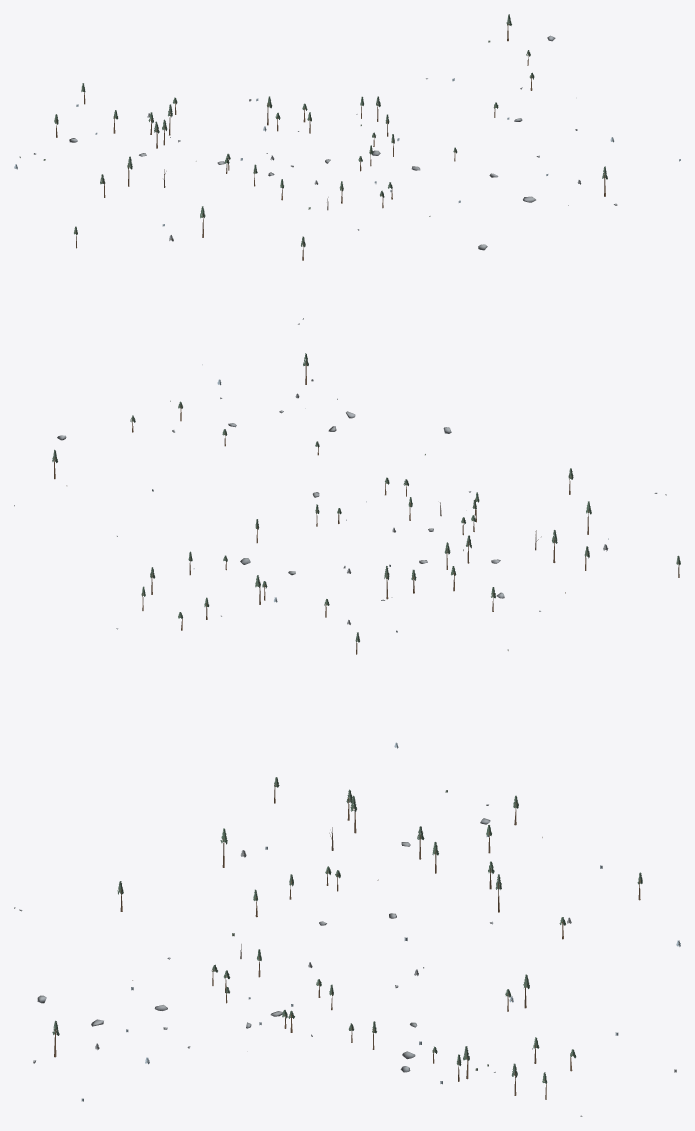
File: frost_land_scatter_c24_09_lod1.glb
3 views of the same model, one above another, from view 1: azimuth 30°, elevation 25°; view 2: azimuth 150°, elevation 25°; view 3: azimuth 270°, elevation 25° (orthographic). The views are drawn at different scales.
Parts seen in each view (by area): view 1: frost_land_scatter_c24_09_lod1; view 2: frost_land_scatter_c24_09_lod1; view 3: frost_land_scatter_c24_09_lod1.
Boxes of the visible parts, box(x1,y1,x2,y2) form: frost_land_scatter_c24_09_lod1: box(14, 14, 680, 324); frost_land_scatter_c24_09_lod1: box(14, 353, 680, 748); frost_land_scatter_c24_09_lod1: box(14, 777, 680, 1116).
Bounding box in the file's own units: 254 × 56.36 × 223.
